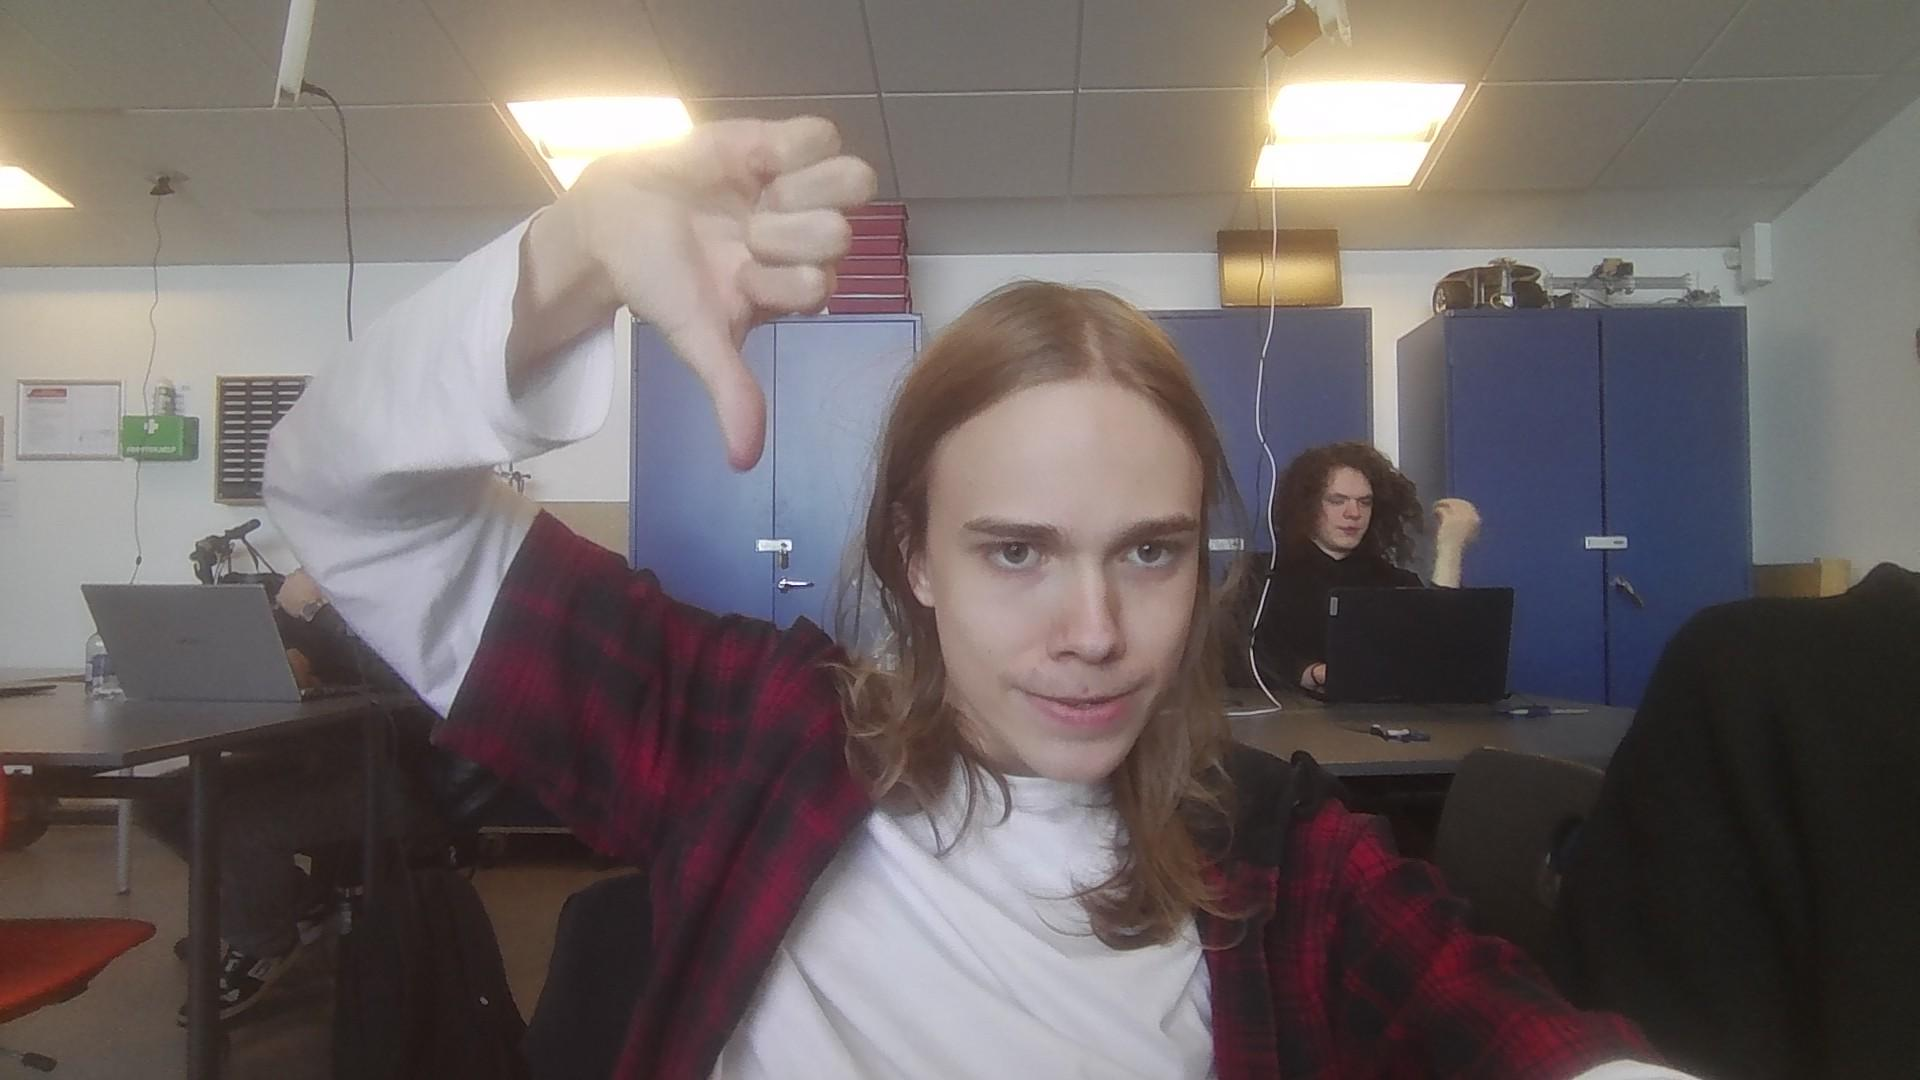thumbs down: (595, 113, 877, 475)
